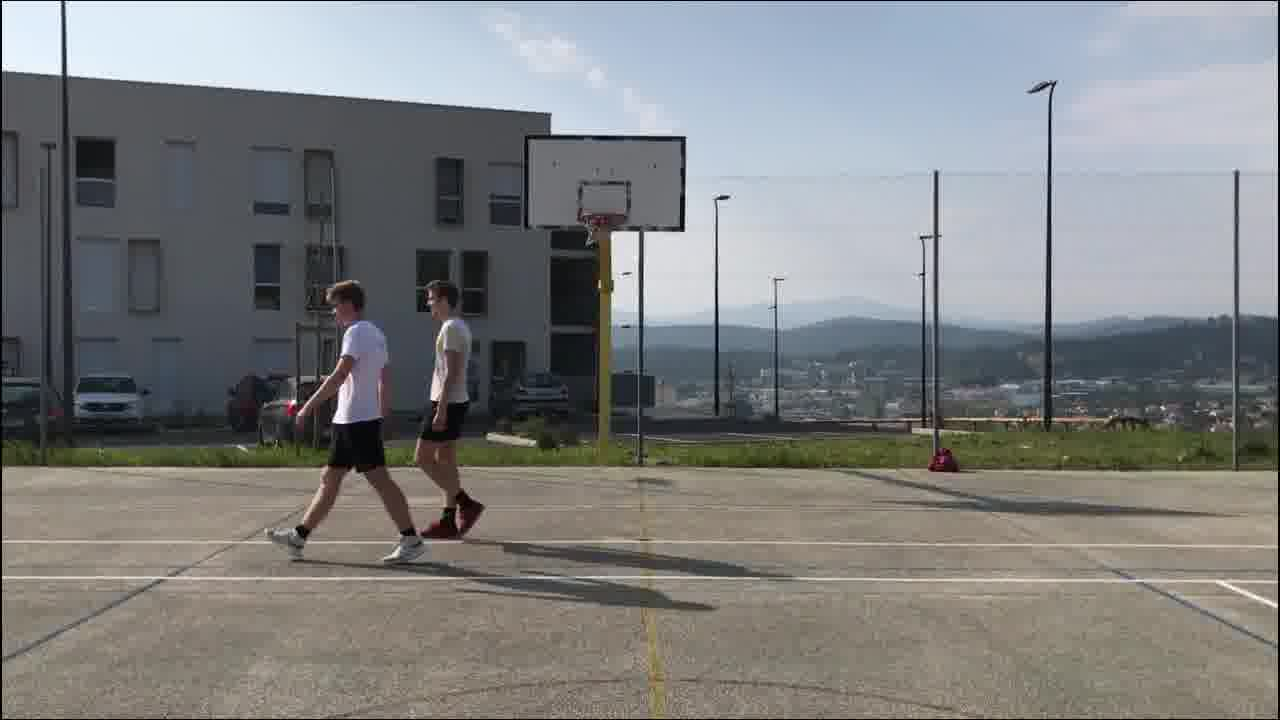jugador: (390, 272, 491, 551)
